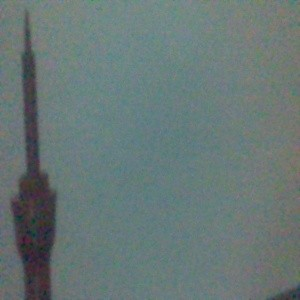solder: (9, 10, 58, 300)
